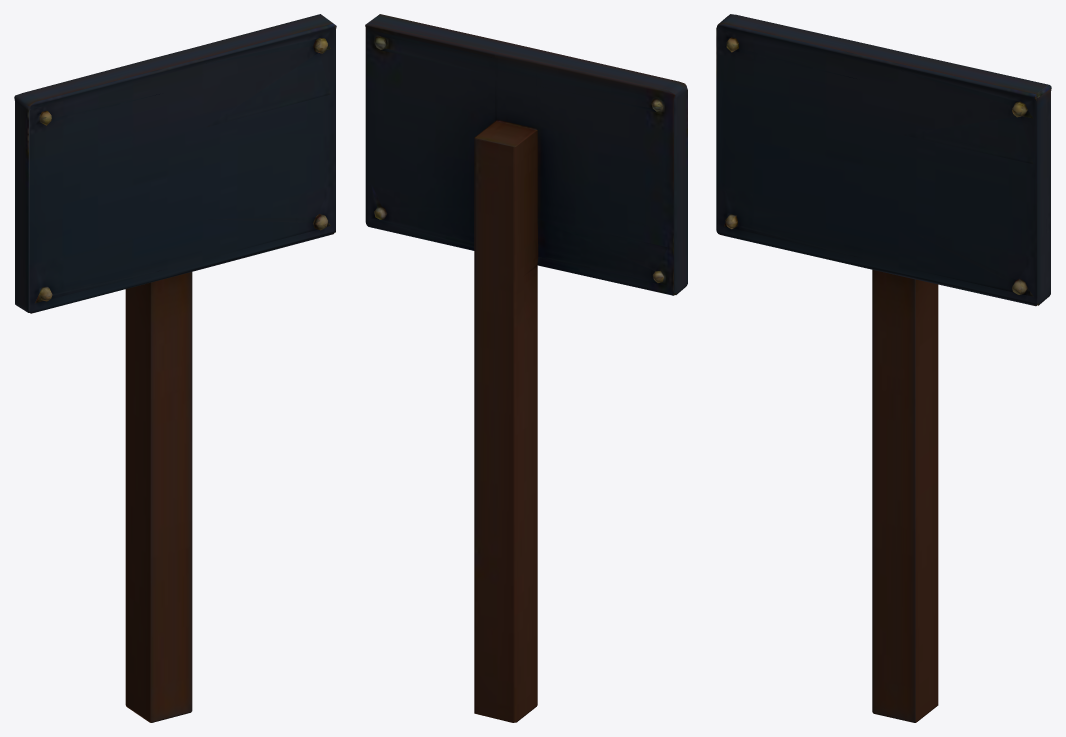
The model's file is info-sign.glb.
The picture shows the model from 3 angles, left to right: view 1: azimuth 30°, elevation 25°; view 2: azimuth 150°, elevation 25°; view 3: azimuth 330°, elevation 25°; orthographic projection. The views are drawn at different scales.
Parts seen in each view (by area): view 1: Info-signBody; view 2: Info-signBody; view 3: Info-signBody.
Part boxes in pixels (left/top/right/bottom): Info-signBody: left=14, top=14, right=336, bottom=722; Info-signBody: left=365, top=14, right=687, bottom=722; Info-signBody: left=716, top=14, right=1051, bottom=722.
Size of the model in its own units: 0.7674 by 1.55 by 0.1941.
Materials: 1 (1 with a texture image).
